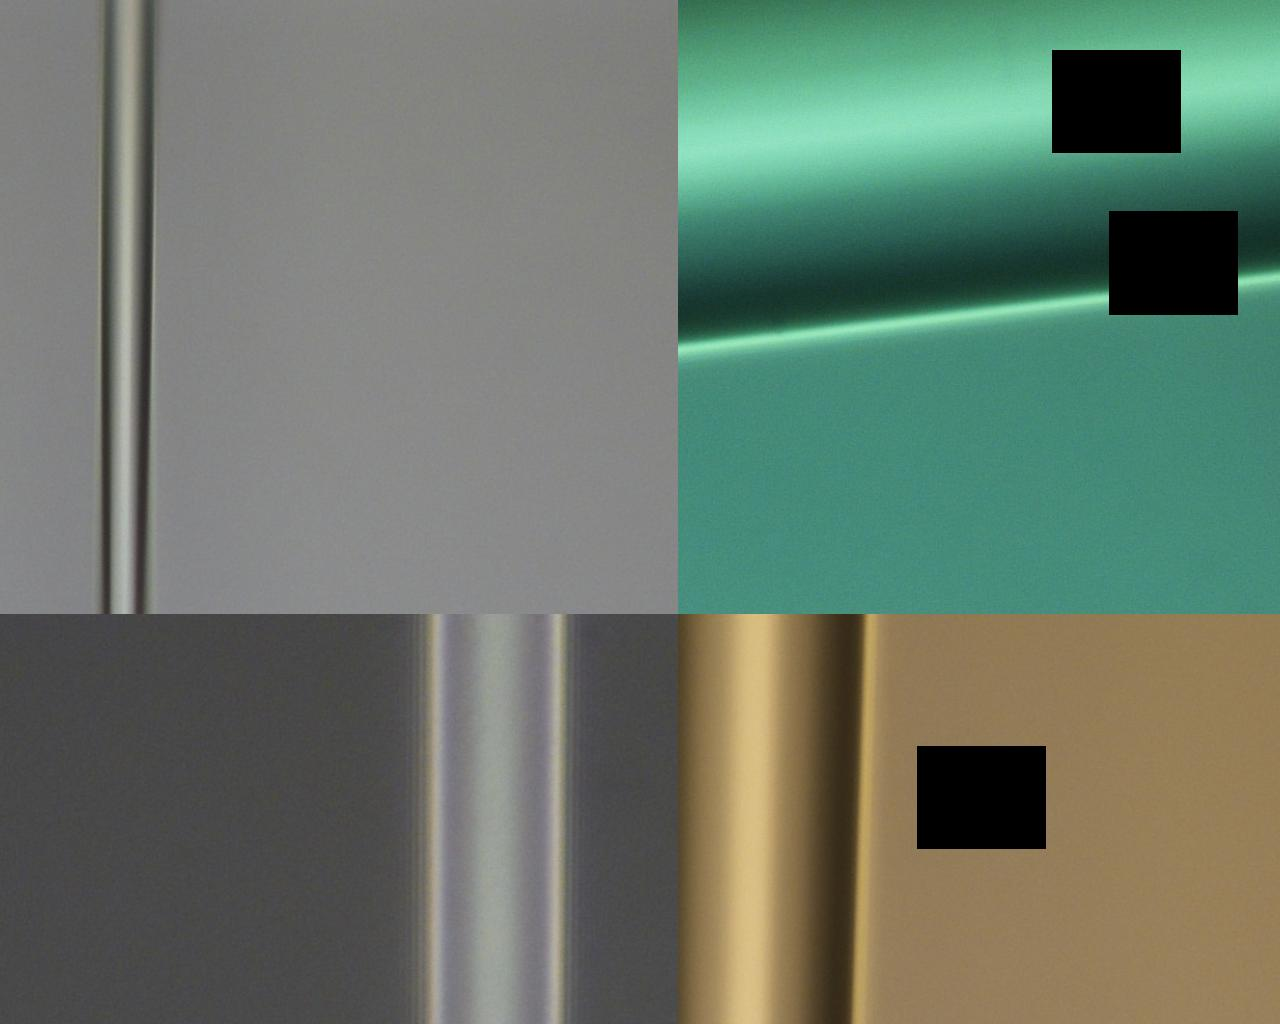fiber: (127, 370, 1151, 391)
